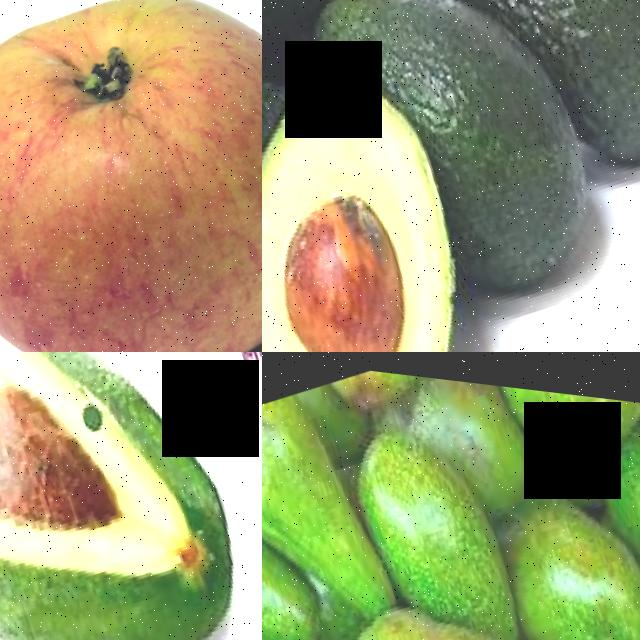apple: (0, 0, 262, 352)
avocado: (262, 12, 558, 352), (333, 0, 640, 318), (0, 352, 262, 640), (324, 395, 541, 640), (262, 364, 430, 640), (444, 0, 640, 187), (471, 434, 640, 640), (397, 368, 565, 522), (326, 548, 568, 640), (466, 374, 640, 478), (262, 435, 350, 640), (577, 399, 640, 637)
